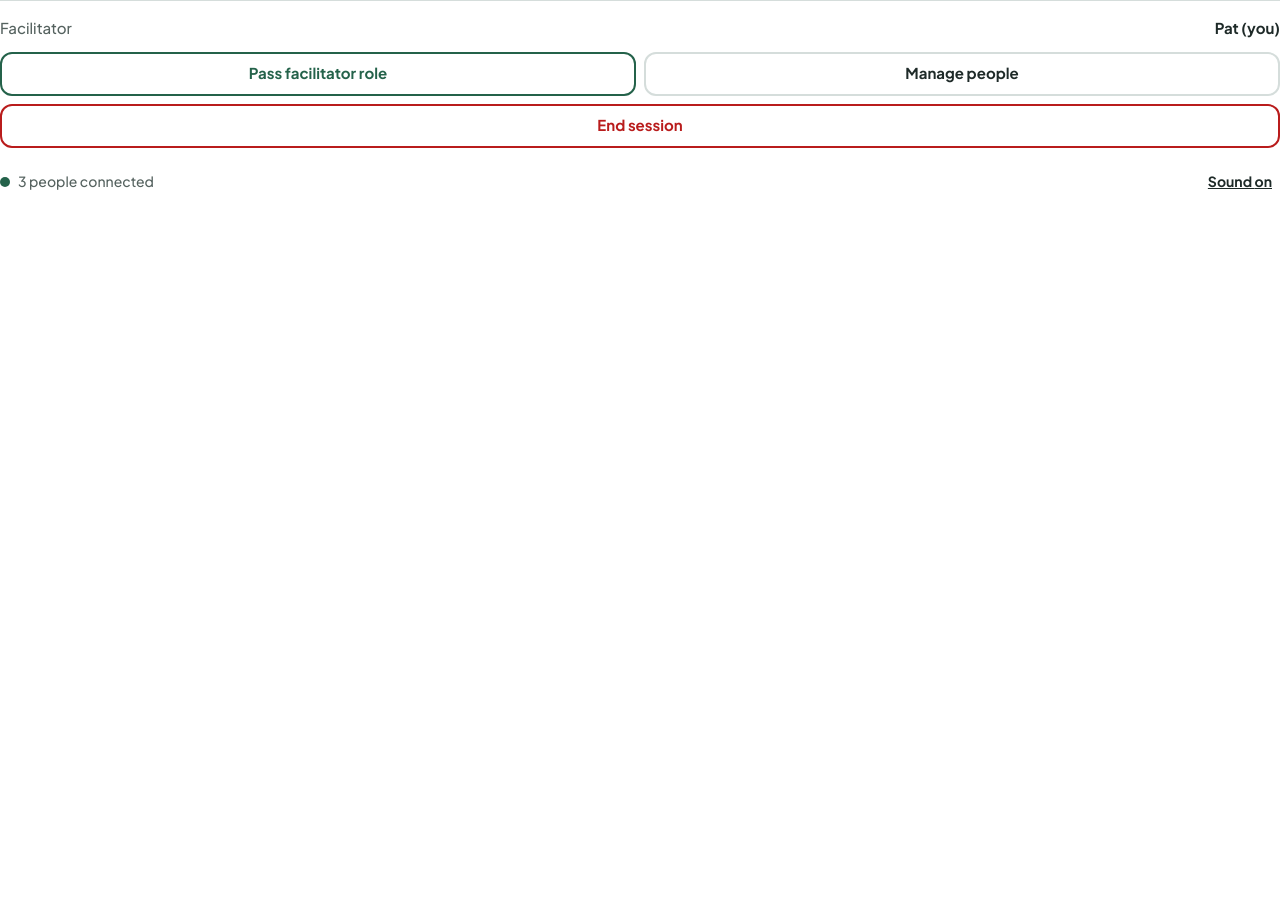
PeoplePanel: managing people › says why the board creator has no Remove when someone else facilitates
Click the button "Manage people": {"x": 962, "y": 74} [644, 52, 1279, 96]
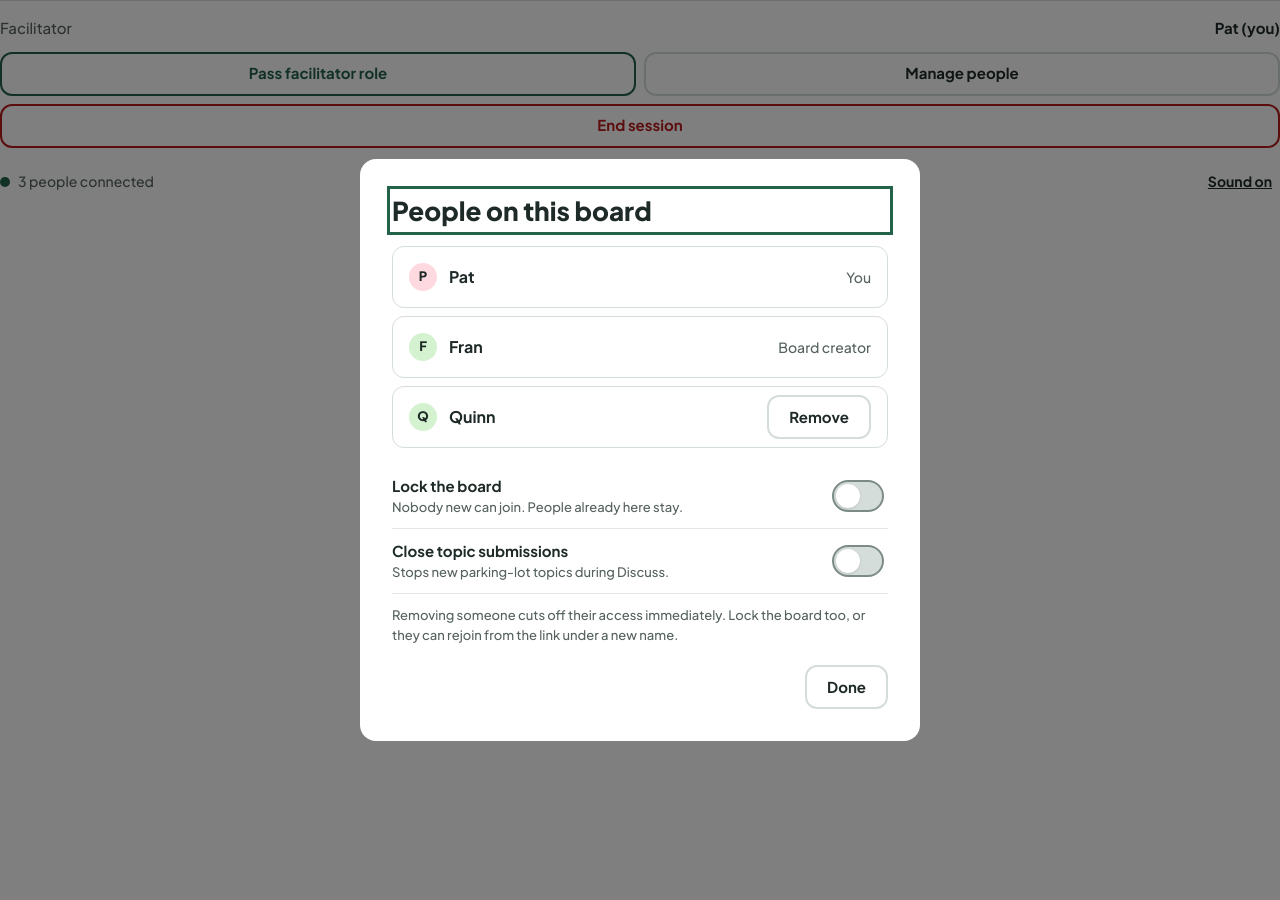
Expected: the text "Board creator" is shown, [778, 336, 871, 358]
Expected: the button with aria-label "Remove Quinn" is shown, [767, 395, 871, 439]
